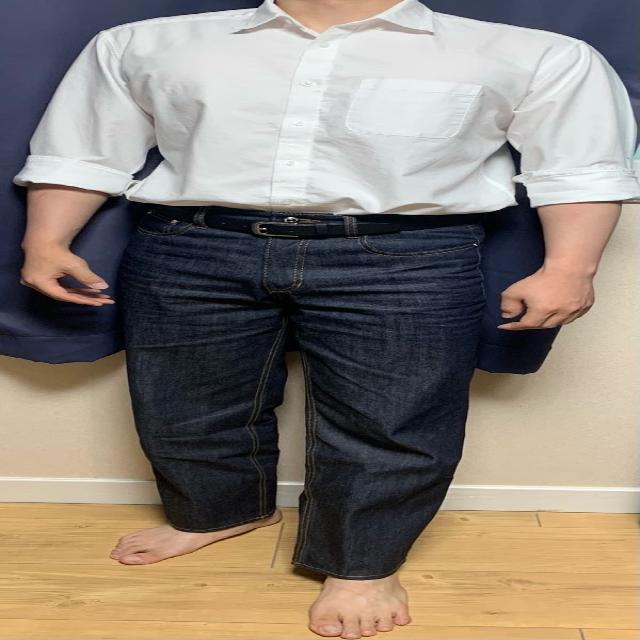denimpants: (117, 200, 496, 581)
shirt: (10, 0, 640, 220)
